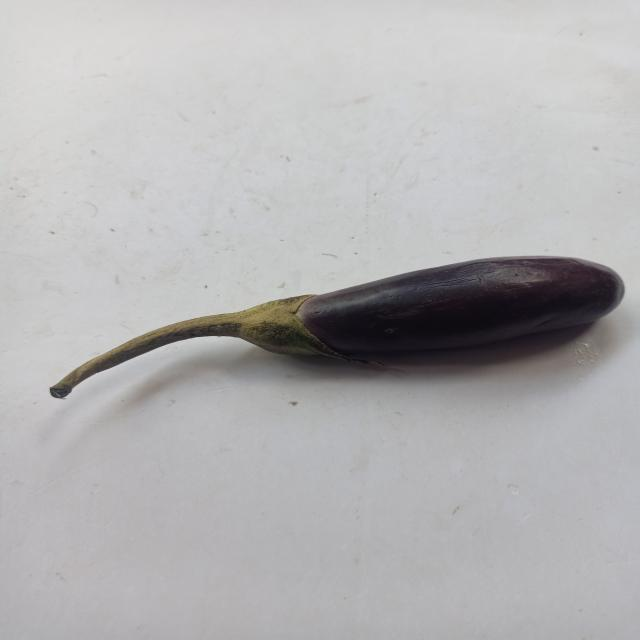Brinjal: (33, 232, 636, 448)
